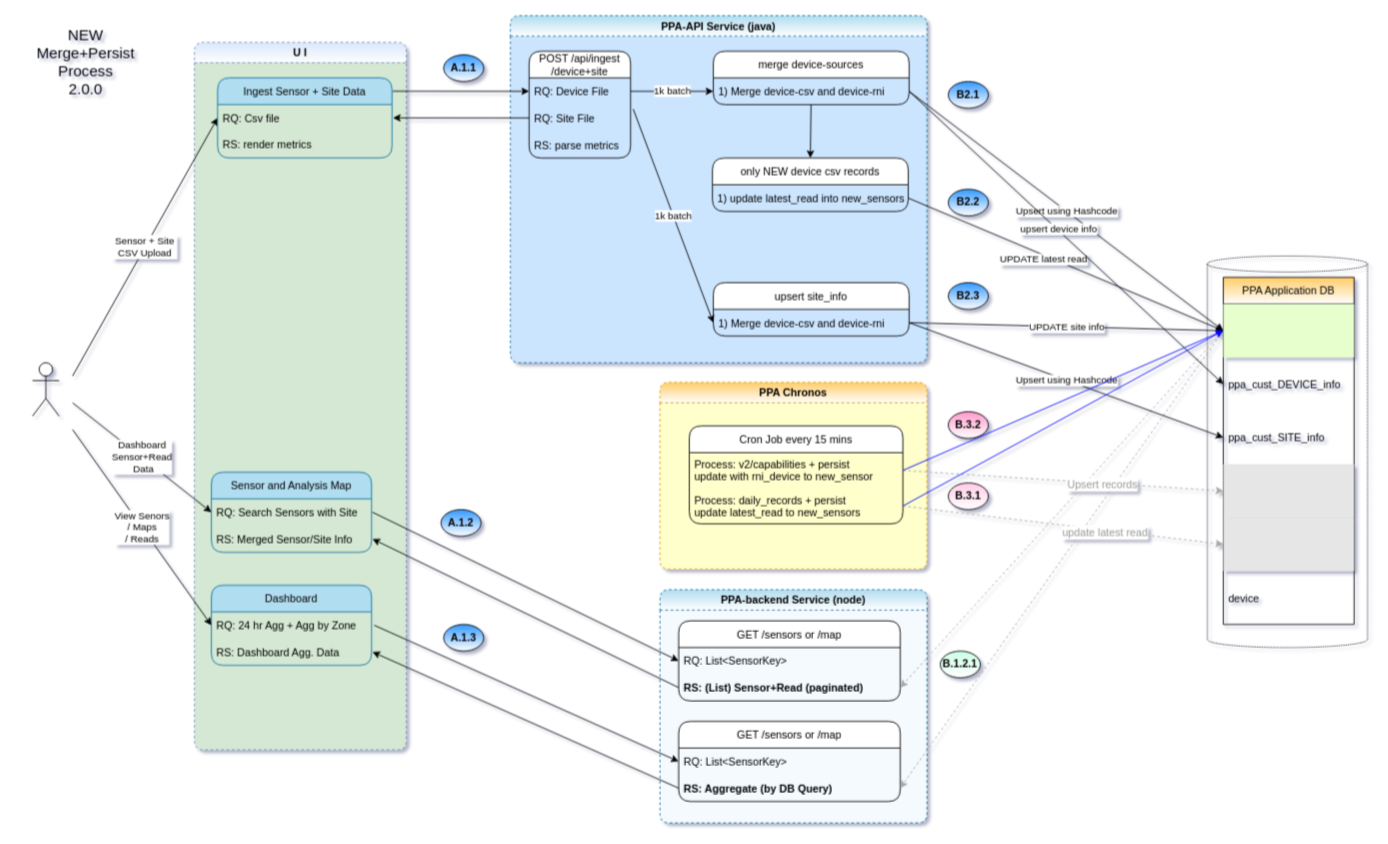
Some shapes in this 1388 by 844 pixel diagram are drawn without their labels. Each missing label, with the centre of its shape:
"new_sensor_aggregate" goes at point 1288,330.
"PPA User" goes at point 45,389.
"ppa_latest_press_read" goes at point 1288,543.
"ppa_RNI_device_info" goes at point 1288,490.
